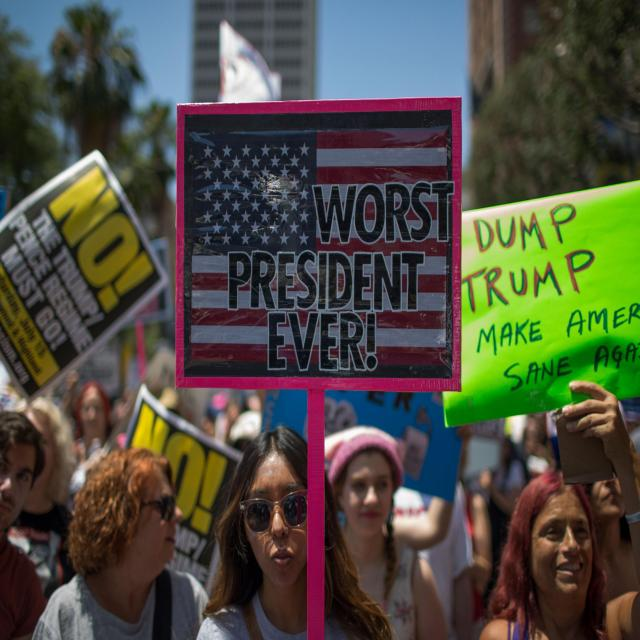body: (452, 381, 640, 640), (186, 421, 402, 640), (31, 446, 211, 640), (324, 425, 452, 640), (14, 384, 259, 469), (479, 418, 558, 582), (0, 409, 51, 639), (395, 486, 479, 624), (22, 468, 75, 580)
